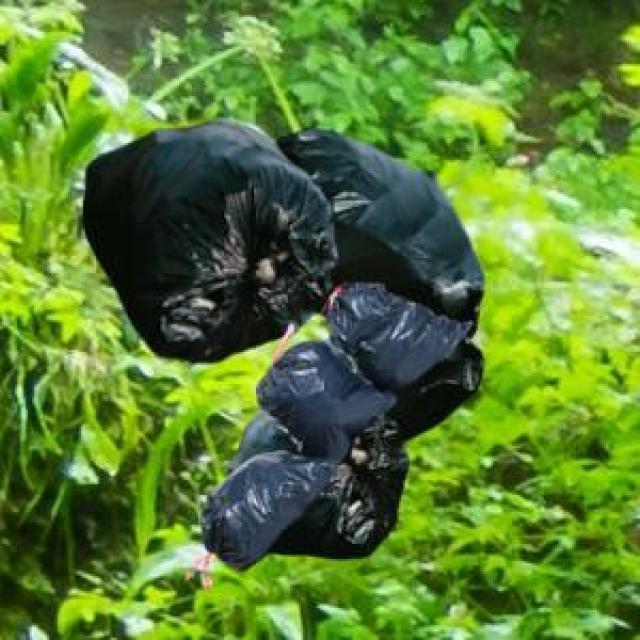miscellaneous trash: (79, 117, 480, 358), (198, 280, 466, 568), (224, 333, 480, 555)
